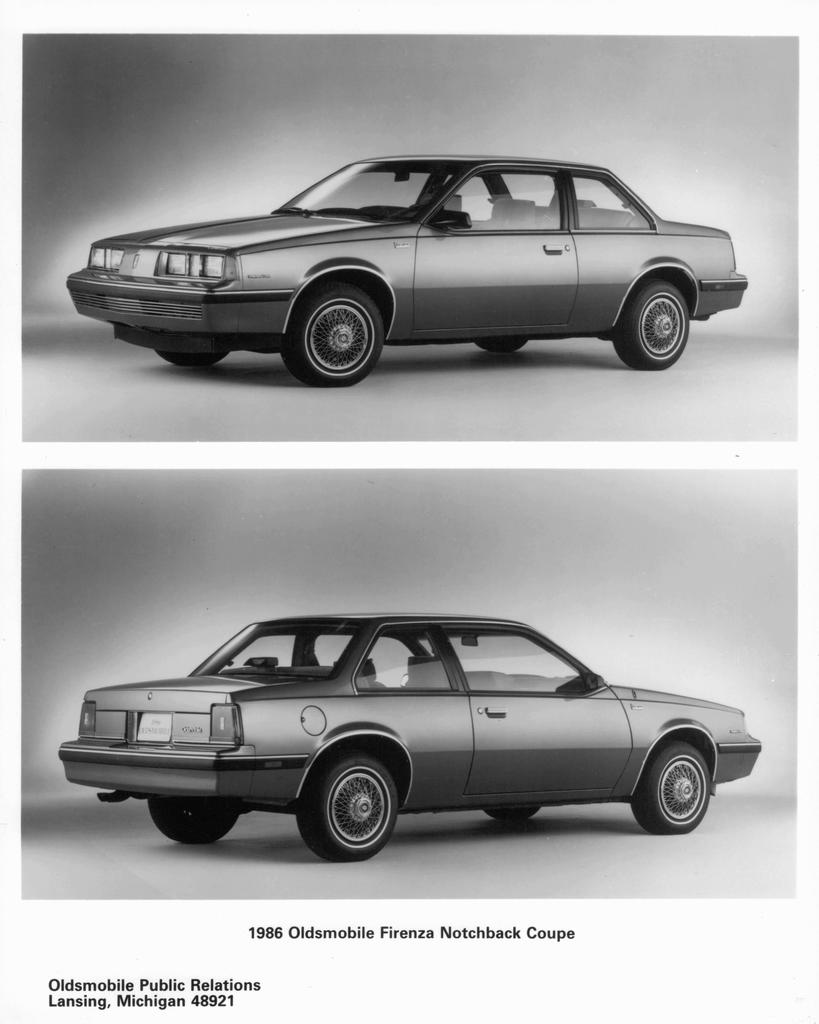Car: (58, 613, 765, 865), (62, 152, 746, 389)
